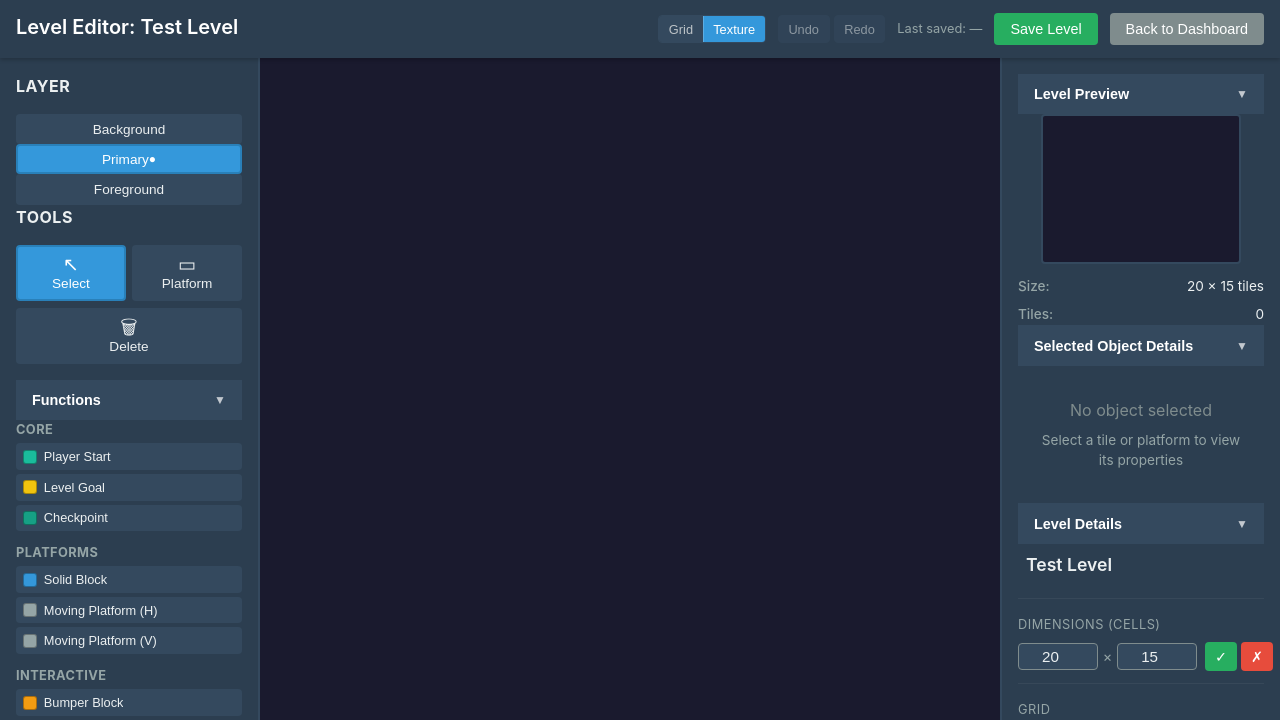
Scenario: LevelEditor Integration Tests › Level Save Functionality › should save level successfully
Click the button "Save Level" at (1046, 29), box [994,13,1098,45]
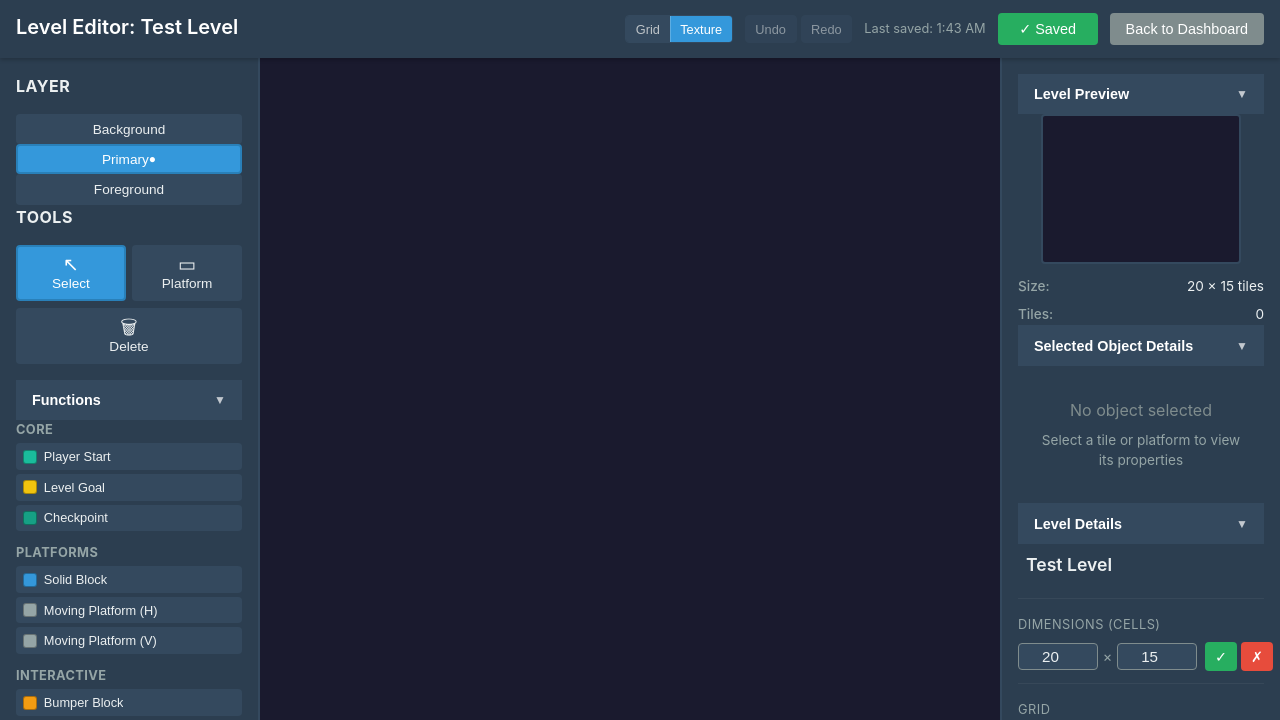
Now the button "✓ Saved" is shown, box [998,13,1098,45]
